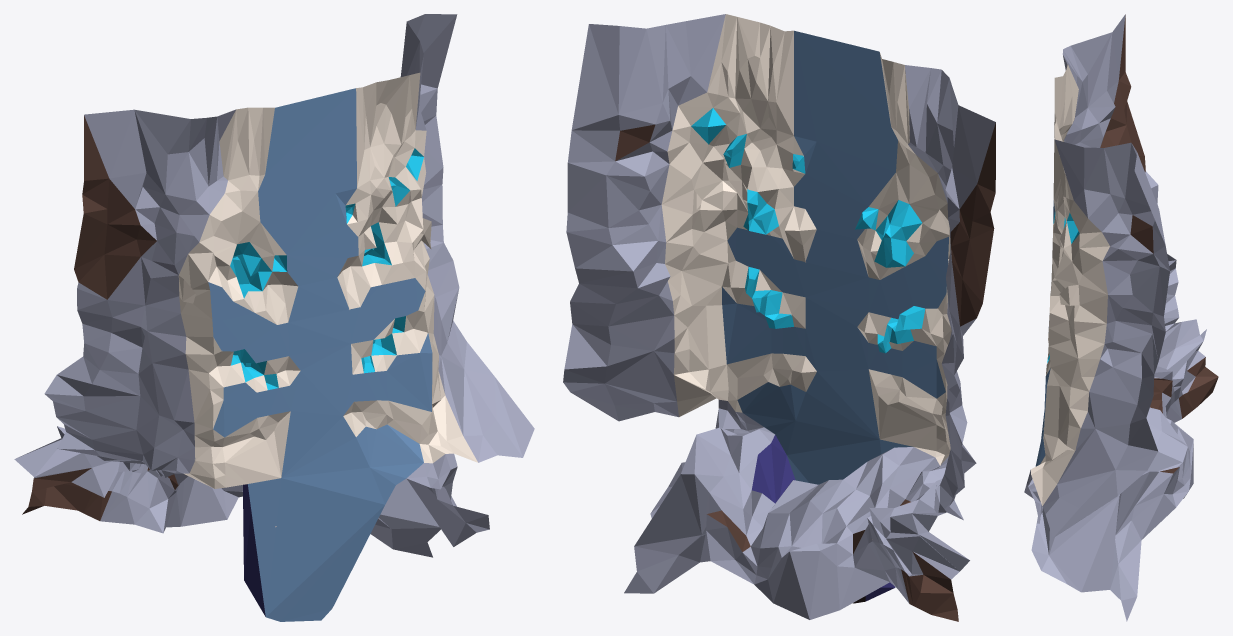
The model's file is MountainTerrainX.fbx.
The picture shows the model from 3 angles, left to right: view 1: azimuth 30°, elevation 25°; view 2: azimuth 150°, elevation 25°; view 3: azimuth 270°, elevation 25°; orthographic projection. The views are drawn at different scales.
Visible parts, largest first — view 1: Plane; view 2: Plane; view 3: Plane.
Boxes of the visible parts, bbox=[...] form: Plane: bbox=[14, 14, 534, 621]; Plane: bbox=[563, 14, 995, 621]; Plane: bbox=[1024, 14, 1218, 621].
Size of the model in its own units: 69.17 by 81.27 by 30.54.
1 material, 1 textured.
